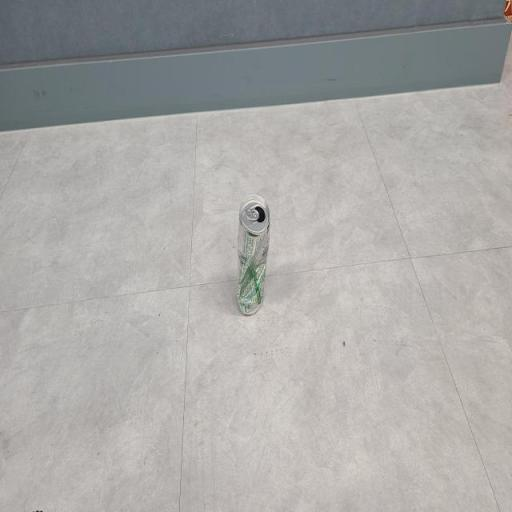metal: (227, 182, 285, 336)
